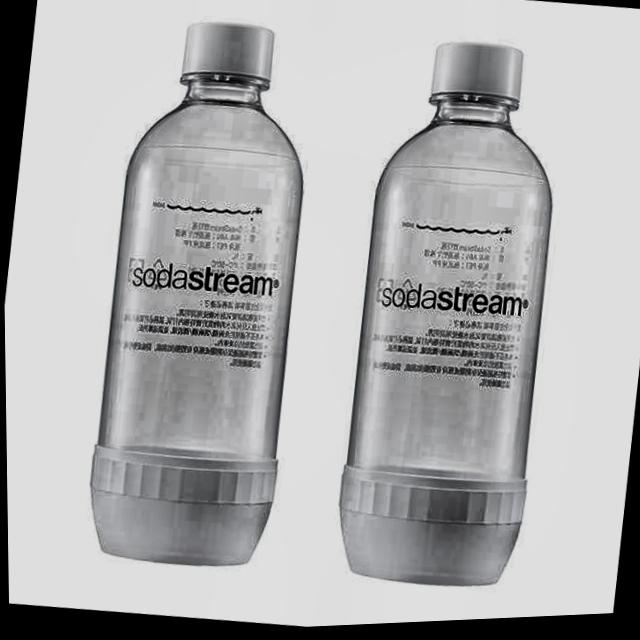Bottles: (260, 8, 621, 627), (44, 0, 352, 609)
